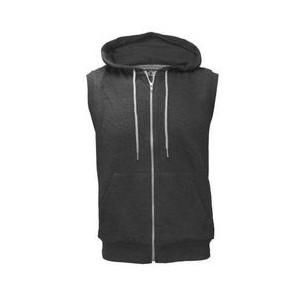C_vest: (80, 27, 226, 268)
